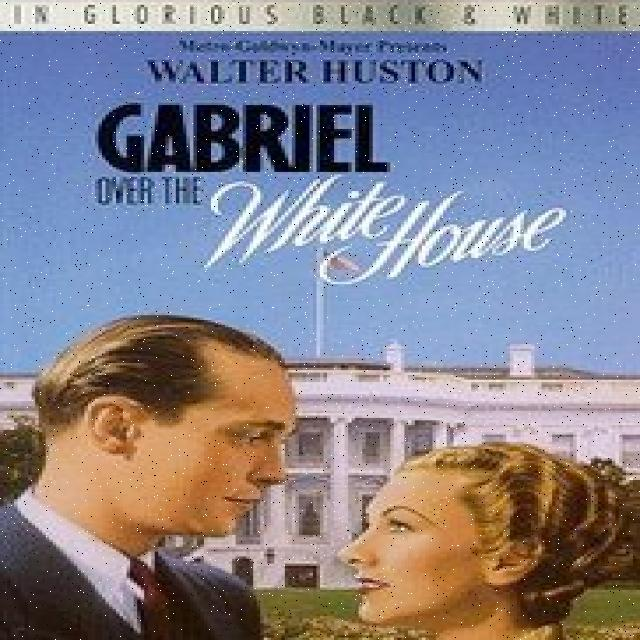movie-judul: (79, 34, 568, 296), (3, 2, 638, 33)
picture: (6, 241, 640, 638)
